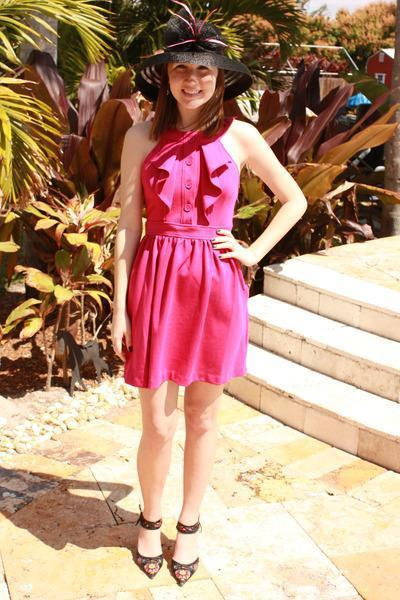dress: (121, 127, 264, 388)
hat: (141, 21, 253, 100)
shoe: (135, 516, 208, 582)
